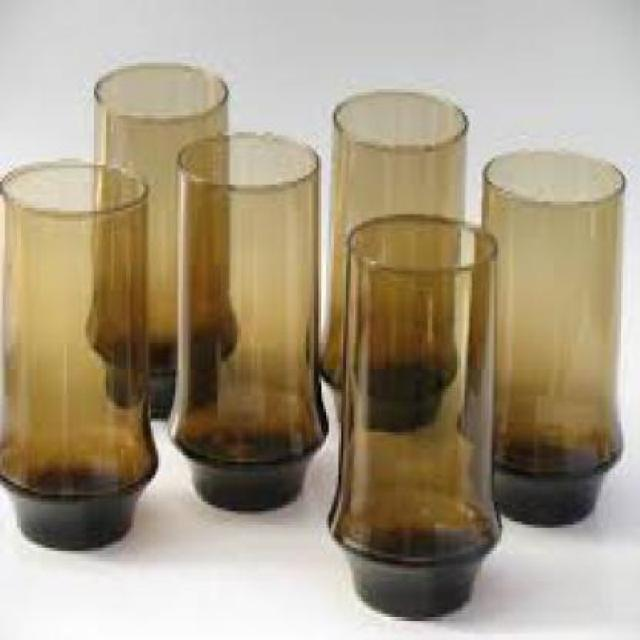kaca: (325, 211, 500, 617), (166, 126, 325, 508), (0, 156, 154, 544), (477, 144, 618, 522), (90, 57, 236, 415), (317, 87, 465, 416)
